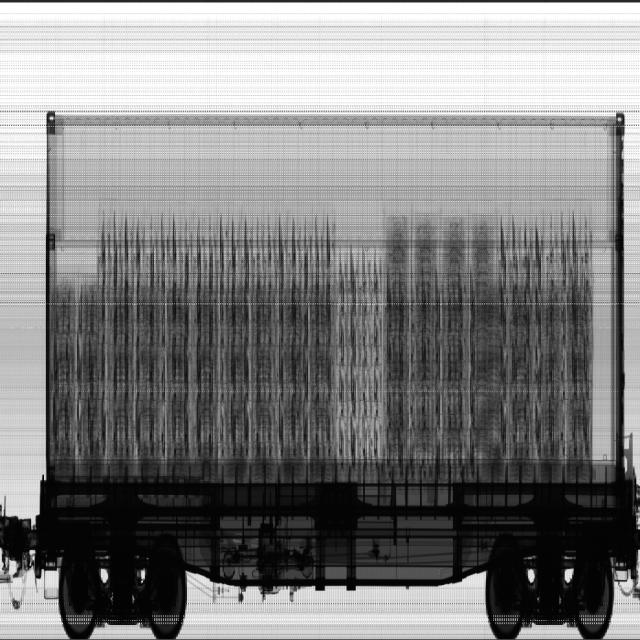auto parts: (385, 211, 501, 472)
